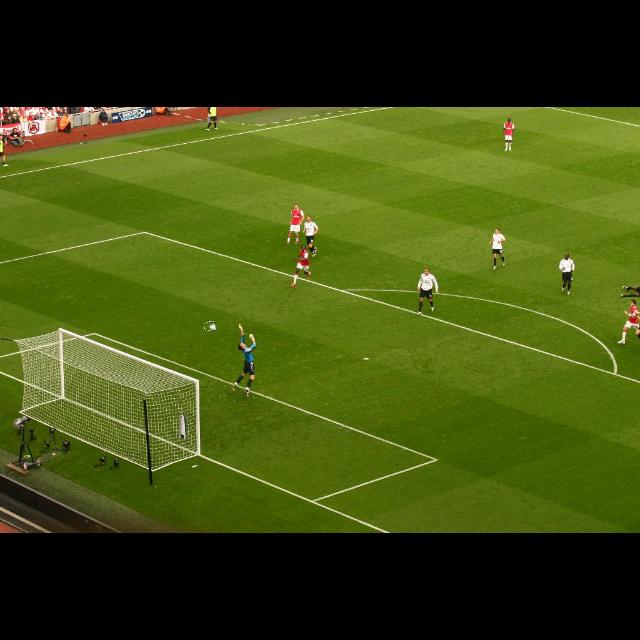Football: (205, 322, 215, 330)
